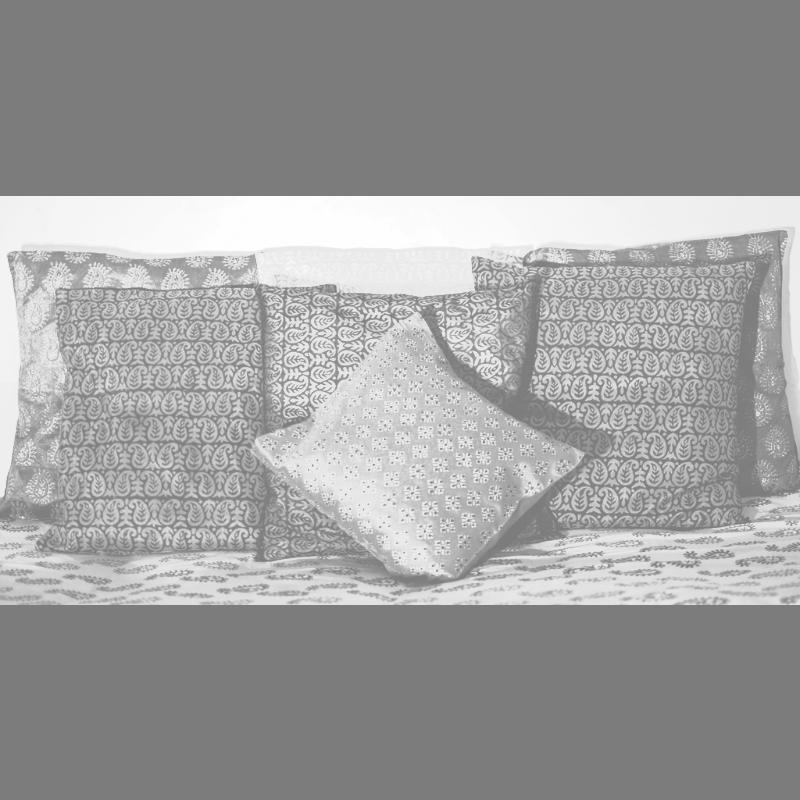pillow: (251, 274, 566, 558), (465, 252, 750, 526), (528, 228, 799, 496), (3, 254, 257, 524), (24, 285, 266, 550), (253, 248, 522, 296)
